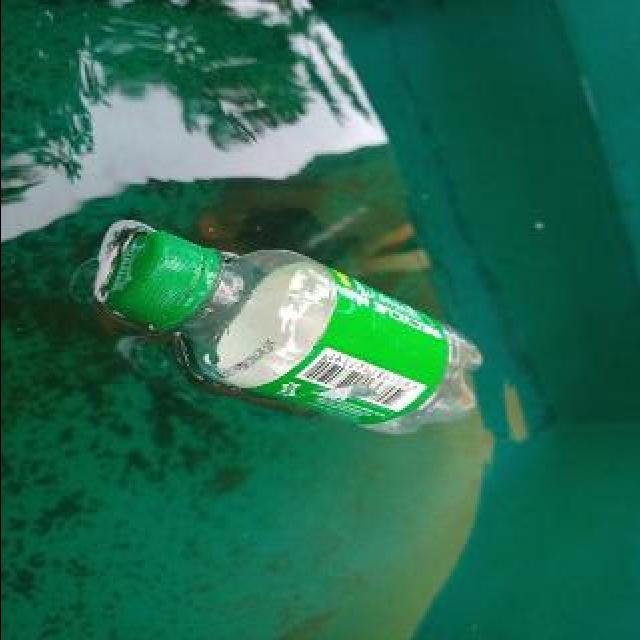Bottle: (91, 215, 487, 442)
